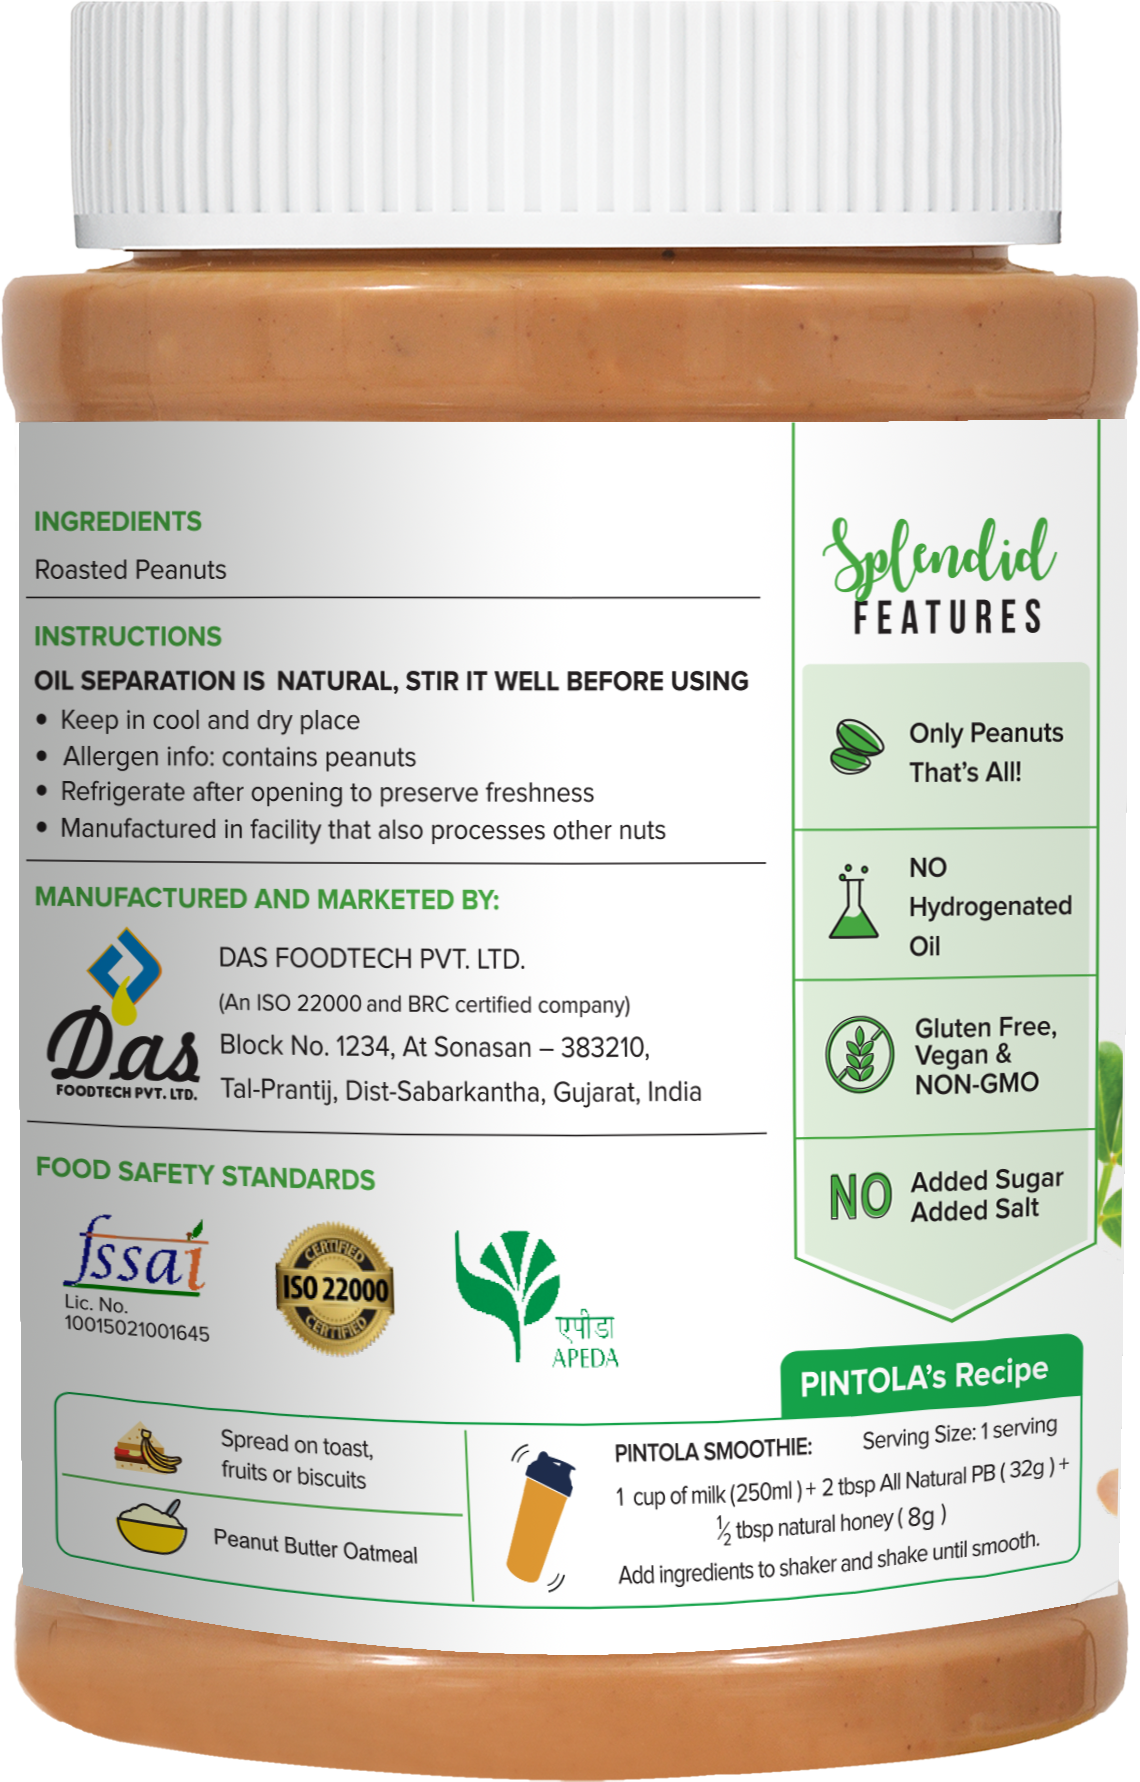fssai: (58, 1211, 204, 1294)
